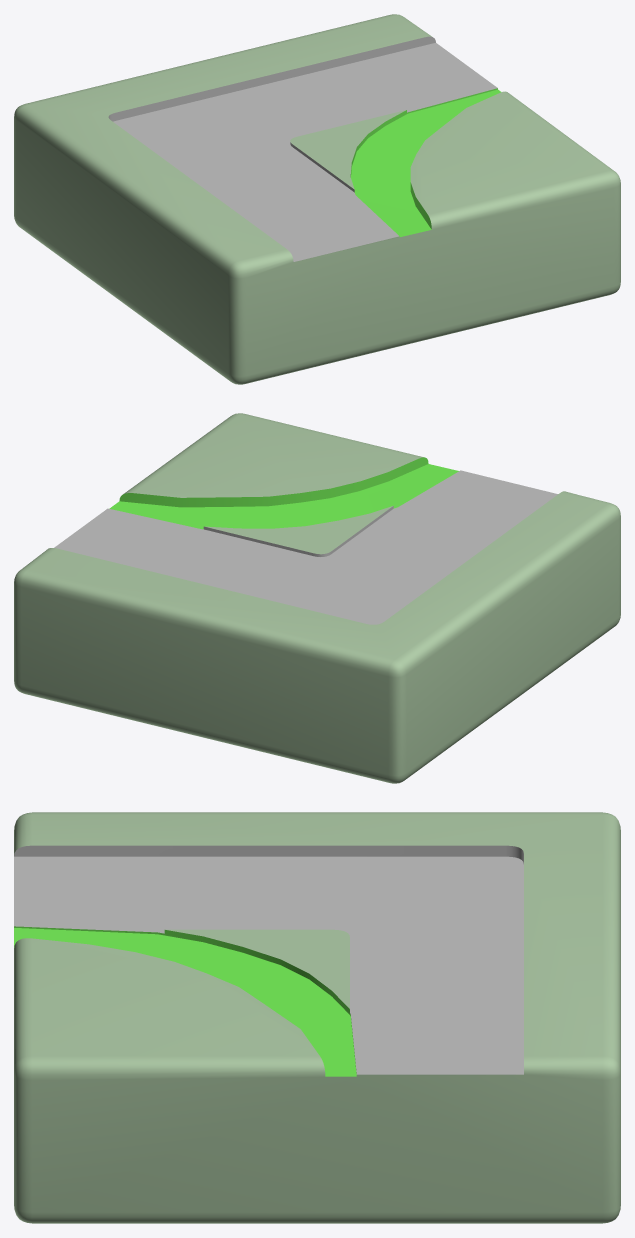
File: principe1.gltf
3 views of the same model, one above another, from view 1: azimuth 30°, elevation 25°; view 2: azimuth 150°, elevation 25°; view 3: azimuth 270°, elevation 25° (orthographic). The views are drawn at different scales.
Visible parts, largest first — view 1: principe1; view 2: principe1; view 3: principe1.
Part boxes in pixels (x1,y1,x2,y2): principe1: (14,14,620,384); principe1: (14,413,620,783); principe1: (14,812,620,1223).
Size of the model in its own units: 0.05 by 0.015 by 0.05.
